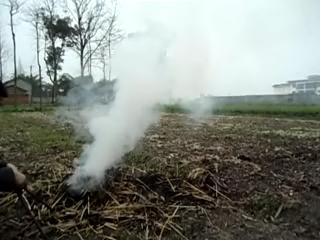yanwu: (62, 21, 215, 186)
